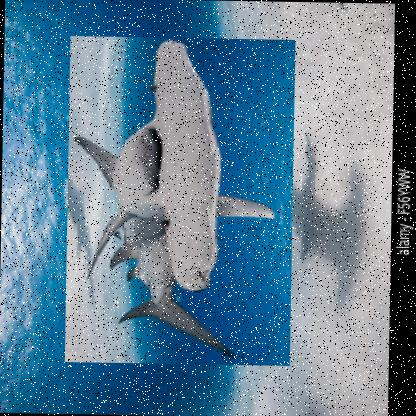hammerhead_Shark: (63, 35, 295, 366)
